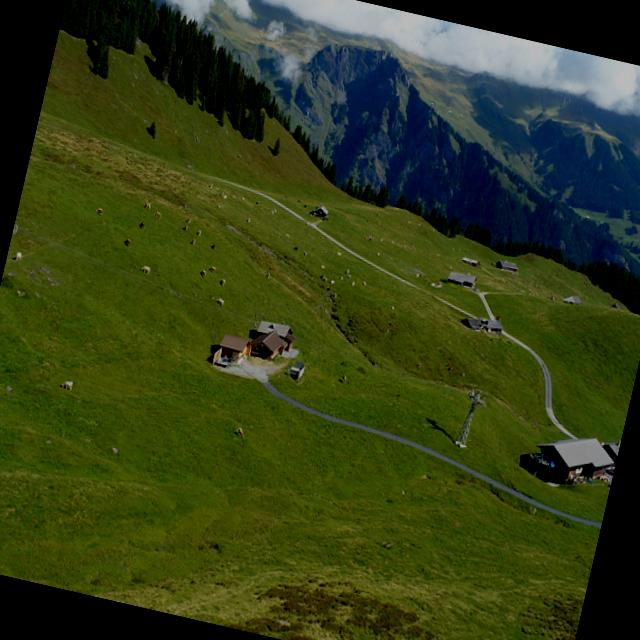Vehicle: (604, 465, 614, 474)
